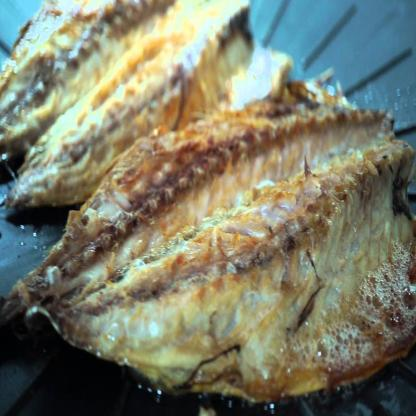Peixe: (0, 0, 412, 394)
